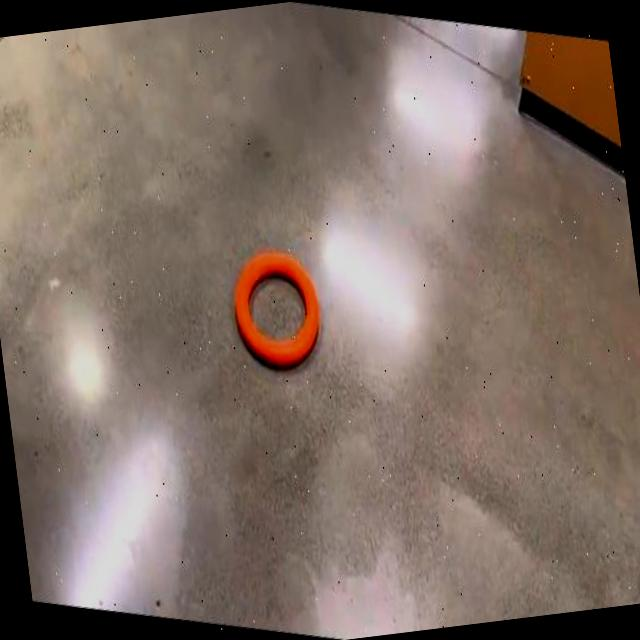note: (235, 253, 318, 365)
